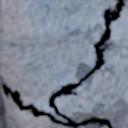brick: (0, 0, 115, 114), (56, 0, 127, 127), (3, 95, 66, 127), (80, 124, 105, 127)
crack: (0, 0, 125, 127)
